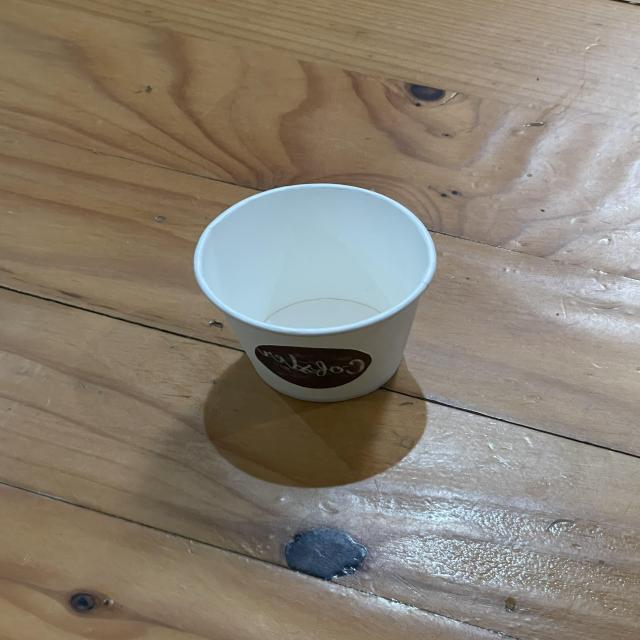small: (188, 172, 445, 410)
